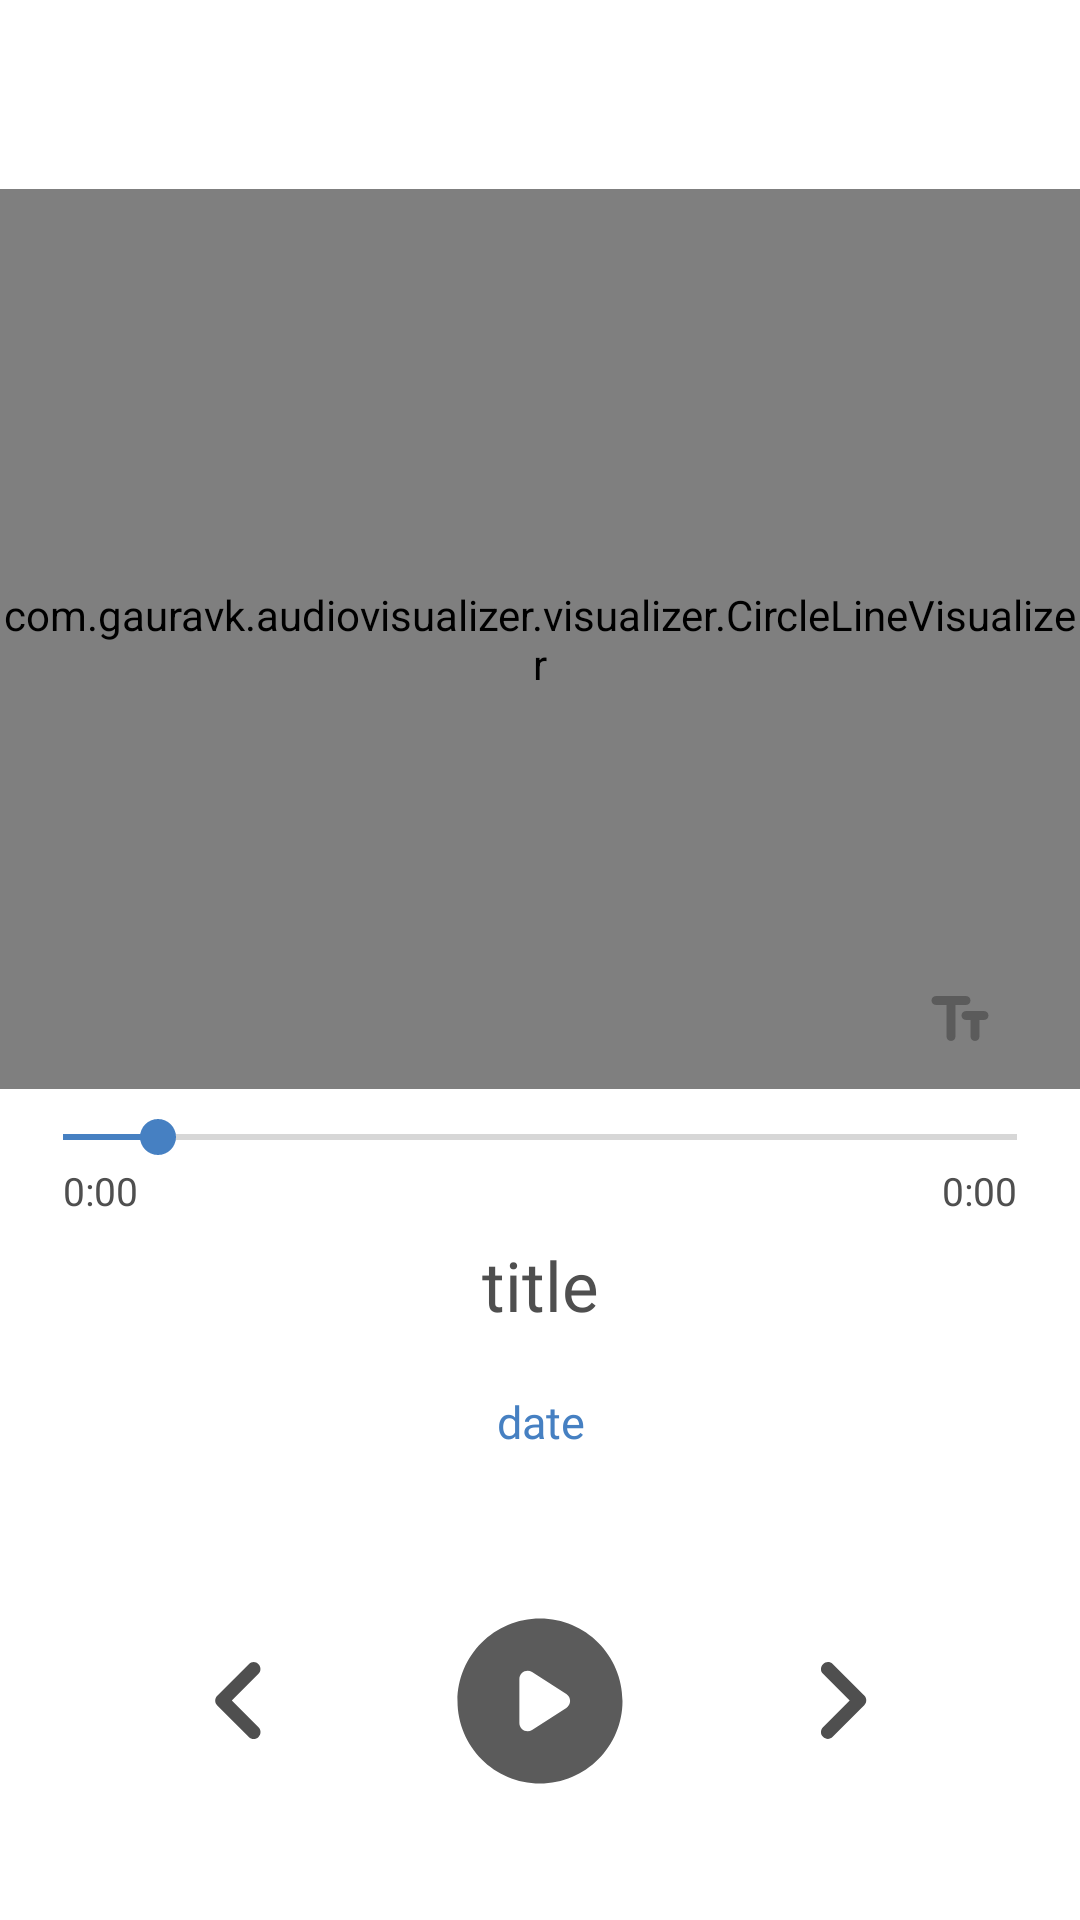

Icon bounding boxes for this 1080px×1920px phone screenshot, format (x1, y1, x2, y2):
navigate next note: (821, 1662, 867, 1739)
navigate previous note: (215, 1662, 261, 1739)
play circle: (457, 1618, 623, 1784)
